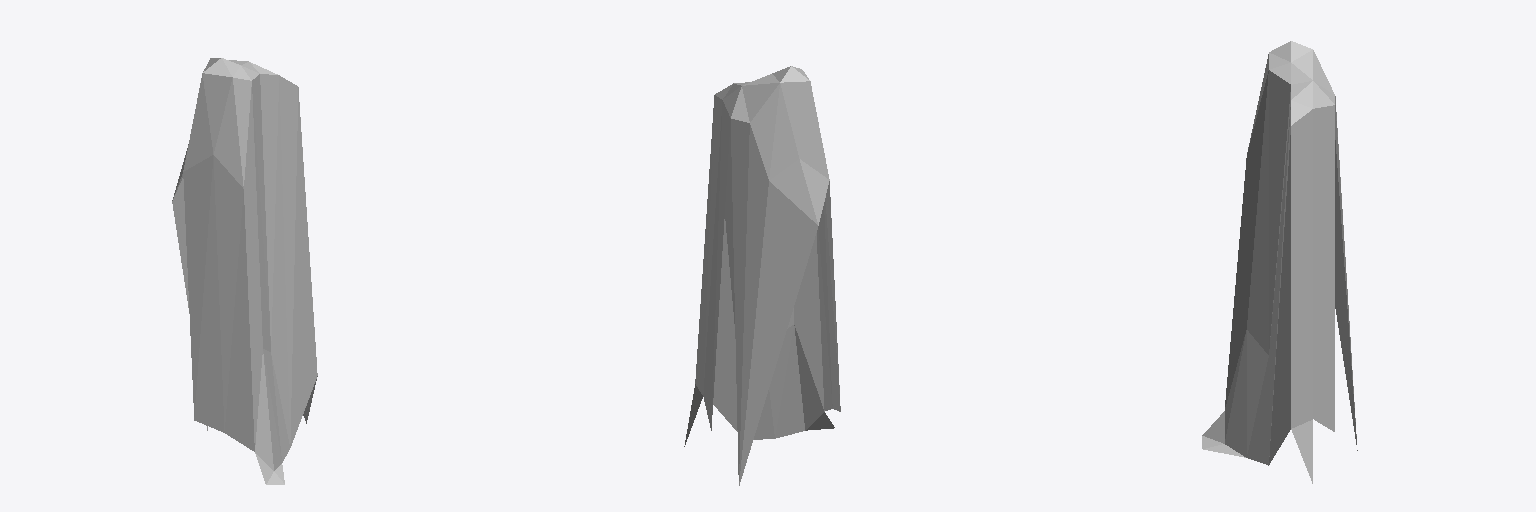
File: tree_68.obj
3 renders of one model, left to right at view 1: azimuth 30°, elevation 25°; view 2: azimuth 150°, elevation 25°; view 3: azimuth 270°, elevation 25°, orthographic.
Parts seen in each view (by area): view 1: tree_68.001; view 2: tree_68.001; view 3: tree_68.001.
Boxes of the visible parts, x1=… form: tree_68.001: x1=172, y1=58, x2=317, y2=484; tree_68.001: x1=684, y1=66, x2=840, y2=485; tree_68.001: x1=1202, y1=41, x2=1357, y2=483.
Size of the model in its own units: 7 by 20.02 by 7.